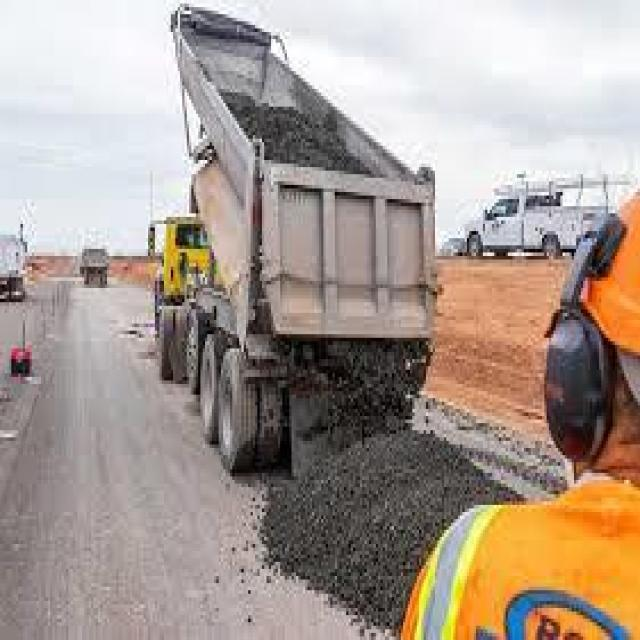dump_truck: (94, 3, 442, 496), (75, 238, 115, 294)
